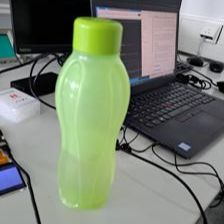bottle: (49, 15, 131, 212)
